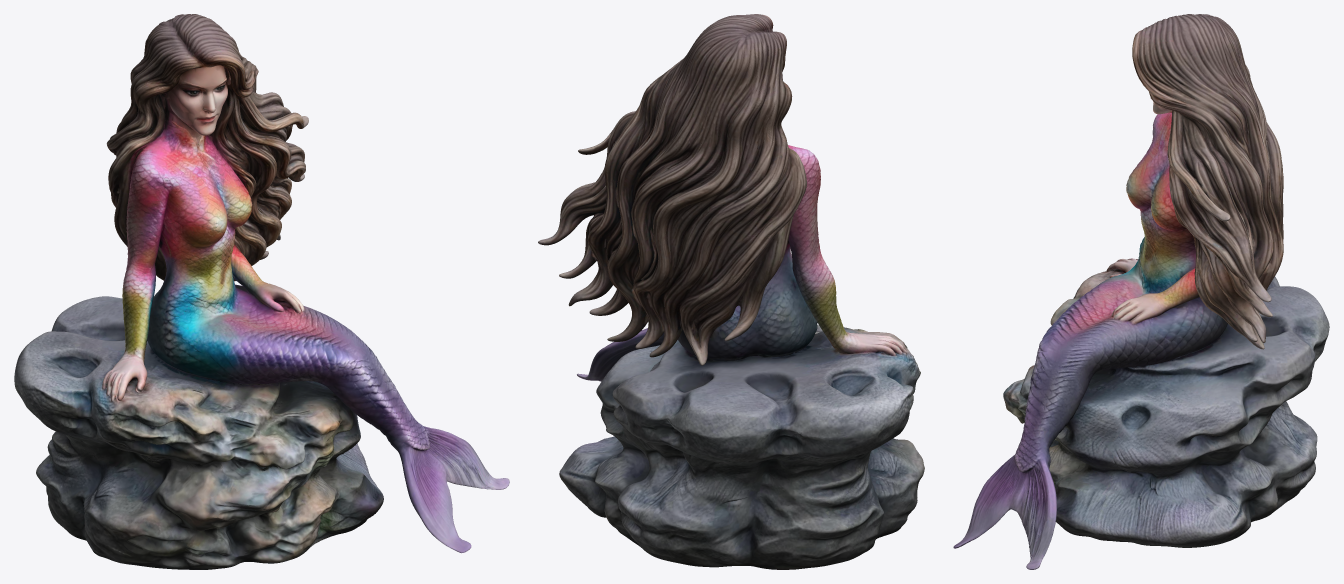
File: H39-web.glb
3 views of the same model, side by side, from view 1: azimuth 30°, elevation 25°; view 2: azimuth 150°, elevation 25°; view 3: azimuth 270°, elevation 25° (orthographic). The views are drawn at different scales.
Parts seen in each view (by area): view 1: tripo_node_366726f5-7201-4516-a677-2aeb9c101fbc; view 2: tripo_node_366726f5-7201-4516-a677-2aeb9c101fbc; view 3: tripo_node_366726f5-7201-4516-a677-2aeb9c101fbc.
Boxes of the visible parts, box(x1,y1,x2,y2) form: tripo_node_366726f5-7201-4516-a677-2aeb9c101fbc: box(14, 14, 509, 569); tripo_node_366726f5-7201-4516-a677-2aeb9c101fbc: box(538, 14, 924, 569); tripo_node_366726f5-7201-4516-a677-2aeb9c101fbc: box(953, 14, 1329, 569).
Size of the model in its own units: 0.5164 by 0.6 by 0.4401.
1 material, 1 textured.
